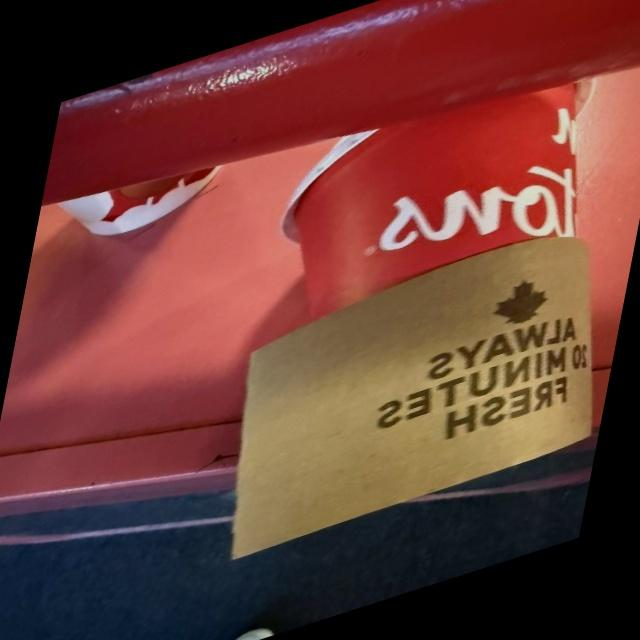Timmies: (205, 27, 640, 576)
